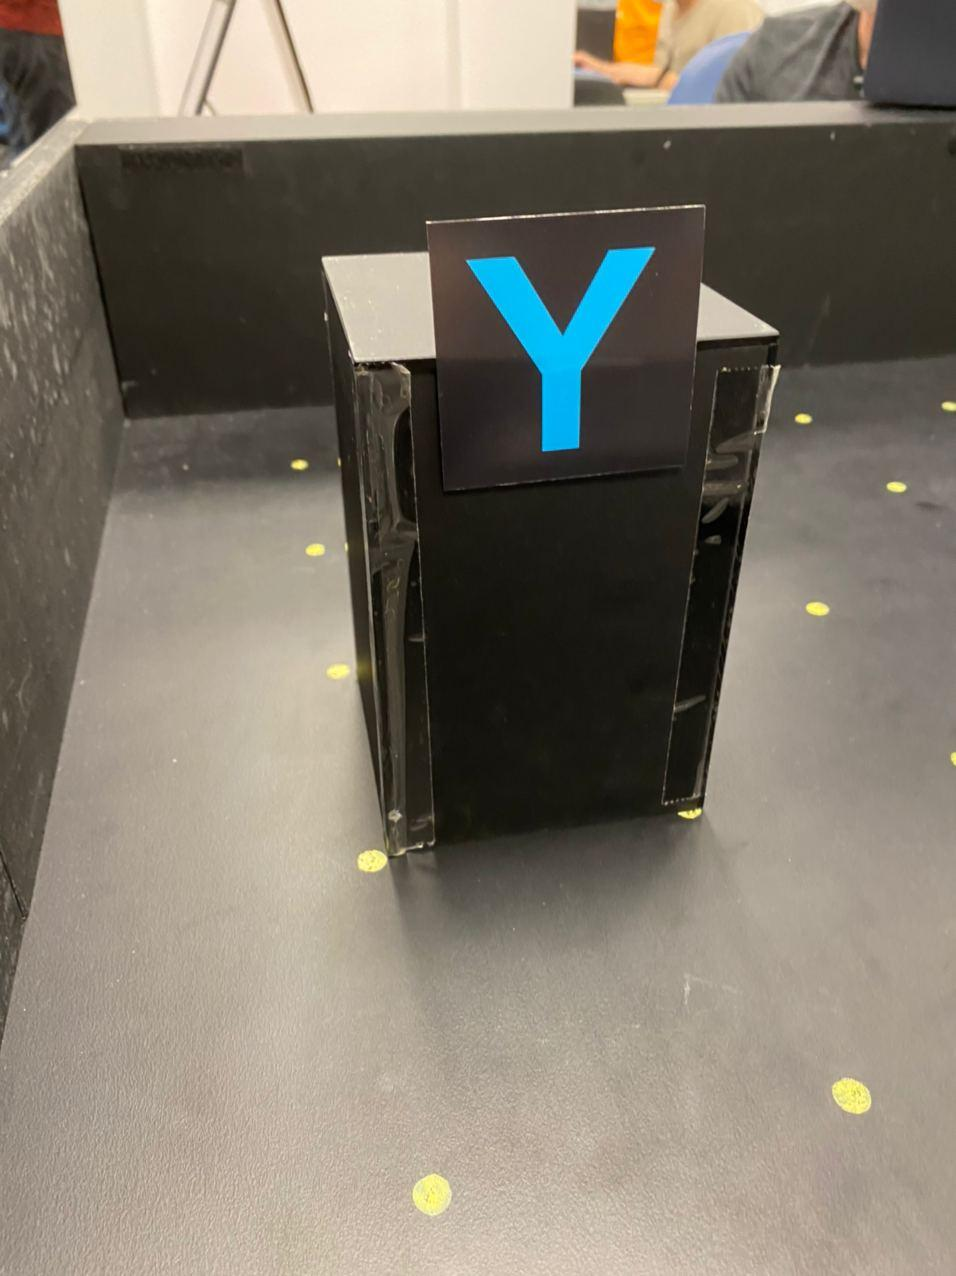y: (451, 233, 662, 458)
